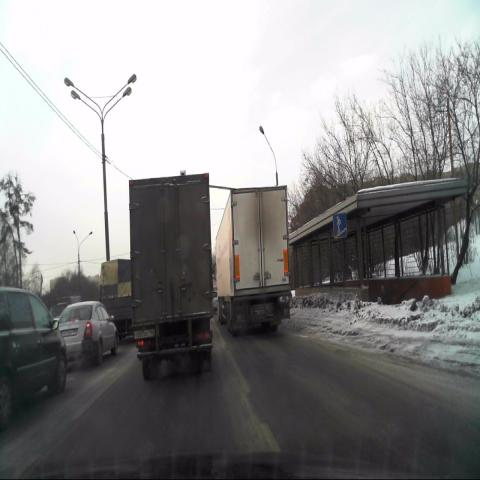6_6: (333, 214, 347, 240)
